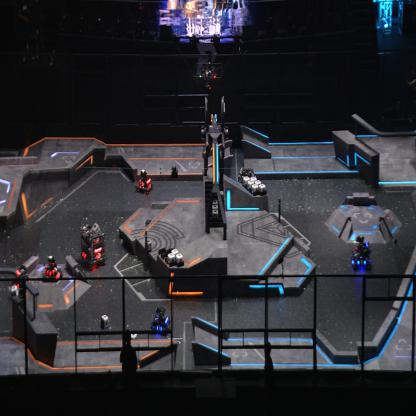car: (78, 222, 107, 270), (350, 234, 372, 271), (237, 166, 258, 202), (150, 306, 171, 336), (42, 254, 63, 283), (135, 167, 153, 194)
